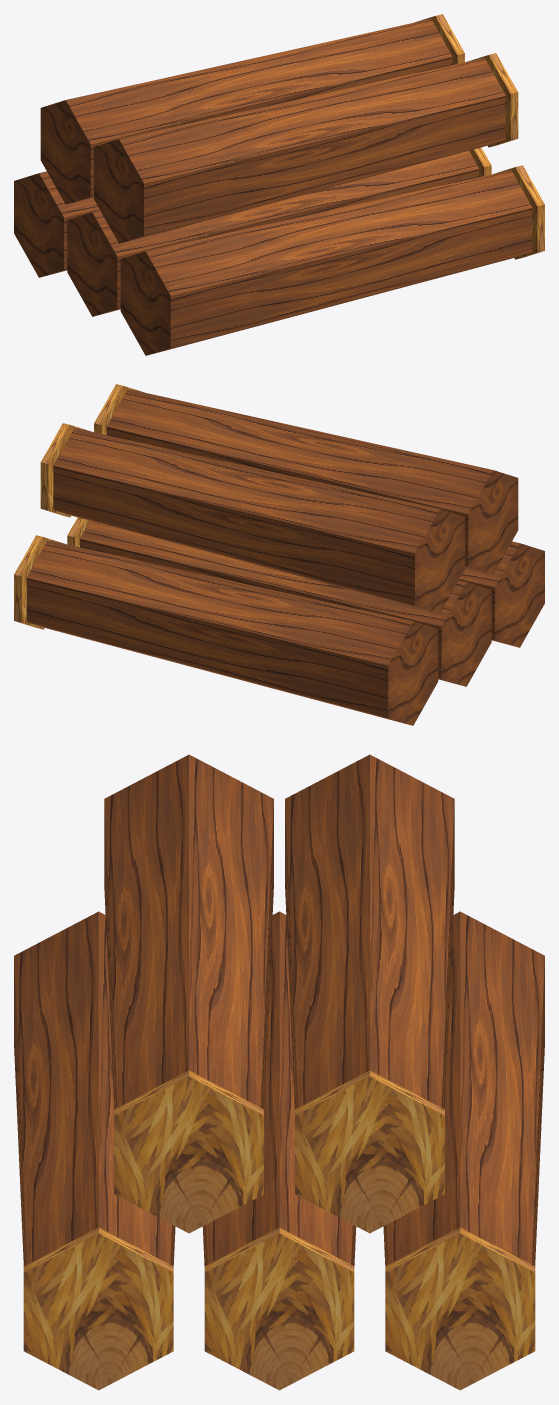
The model's file is firewood.glb.
3 renders of one model, top to bottom at view 1: azimuth 30°, elevation 25°; view 2: azimuth 150°, elevation 25°; view 3: azimuth 270°, elevation 25°, orthographic. The views are drawn at different scales.
Visible parts, largest first — view 1: Split firewood.002, Split firewood.004, Split firewood.003, Split firewood.001, Split firewood, Golden cut end.004, Golden cut end.002, Golden cut end.003; view 2: Split firewood, Split firewood.003, Split firewood.004, Split firewood.001, Split firewood.002, Golden cut end.003, Golden cut end, Golden cut end.004; view 3: Split firewood.003, Split firewood.004, Split firewood, Split firewood.002, Golden cut end.001, Golden cut end, Golden cut end.002, Golden cut end.003, Golden cut end.004, Split firewood.001.
Part boxes in pixels (x1,y1,x2,y2): Split firewood.002: (120, 170, 532, 355); Split firewood.004: (94, 58, 505, 243); Split firewood.003: (40, 19, 452, 204); Split firewood.001: (67, 150, 478, 316); Split firewood: (14, 171, 99, 277); Golden cut end.004: (468, 53, 518, 147); Golden cut end.002: (495, 165, 544, 259); Golden cut end.003: (414, 14, 464, 64); Split firewood: (26, 540, 438, 725); Split firewood.003: (53, 428, 464, 613); Split firewood.004: (106, 389, 518, 574); Split firewood.001: (80, 520, 491, 686); Split firewood.002: (459, 541, 544, 647); Golden cut end.003: (40, 423, 90, 517); Golden cut end: (14, 535, 63, 629); Golden cut end.004: (94, 384, 144, 434); Split firewood.003: (285, 754, 454, 1109); Split firewood.004: (104, 754, 273, 1109); Split firewood: (383, 911, 544, 1265); Split firewood.002: (14, 911, 175, 1265); Golden cut end.001: (204, 1227, 354, 1390); Golden cut end: (385, 1227, 535, 1390); Golden cut end.002: (23, 1227, 173, 1390); Golden cut end.003: (295, 1070, 444, 1233); Golden cut end.004: (114, 1070, 263, 1233); Split firewood.001: (202, 911, 356, 1265).
Size of the model in its own units: 0.98 by 0.49 by 0.7052.
2 materials, 2 textured.
